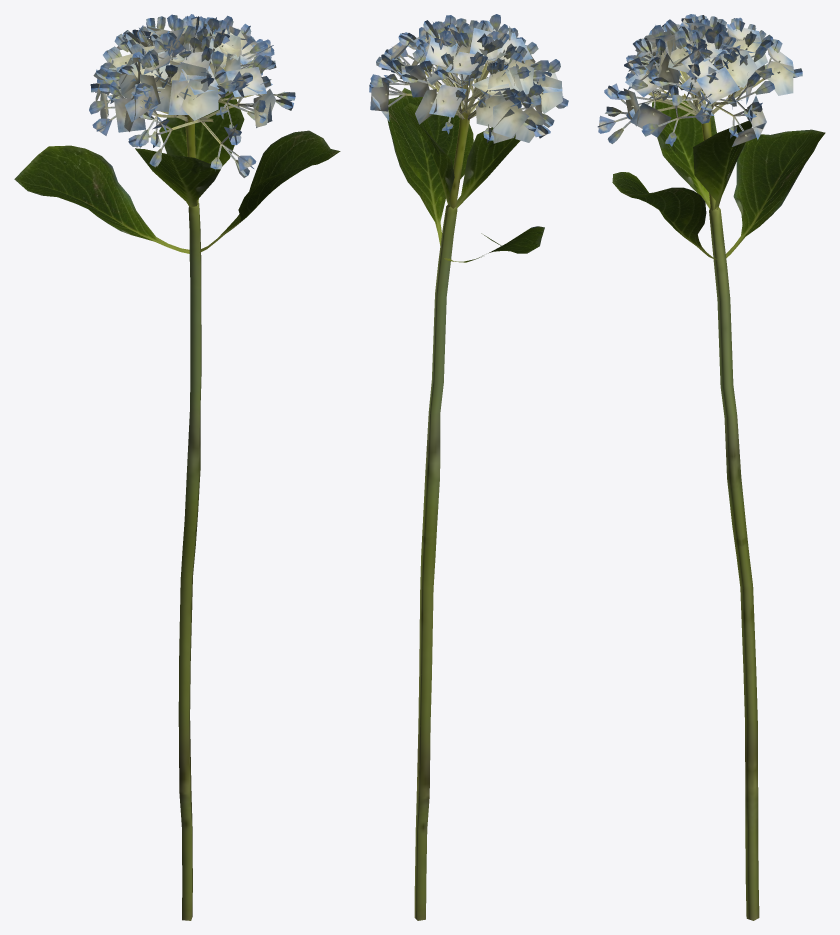
Rendered from Hydrangea_baby_long_deepblue.glb.
3 views of the same model, side by side, from view 1: azimuth 30°, elevation 25°; view 2: azimuth 150°, elevation 25°; view 3: azimuth 270°, elevation 25° (orthographic). The views are drawn at different scales.
Visible parts, largest first — view 1: BABY; view 2: BABY; view 3: BABY.
Boxes of the visible parts, <box> form: BABY: <box>14,14,340,920</box>; BABY: <box>369,14,568,920</box>; BABY: <box>597,14,825,920</box>.
Size of the model in its own units: 0.7928 by 3.08 by 0.7195.
Materials: 1 (1 with a texture image).
